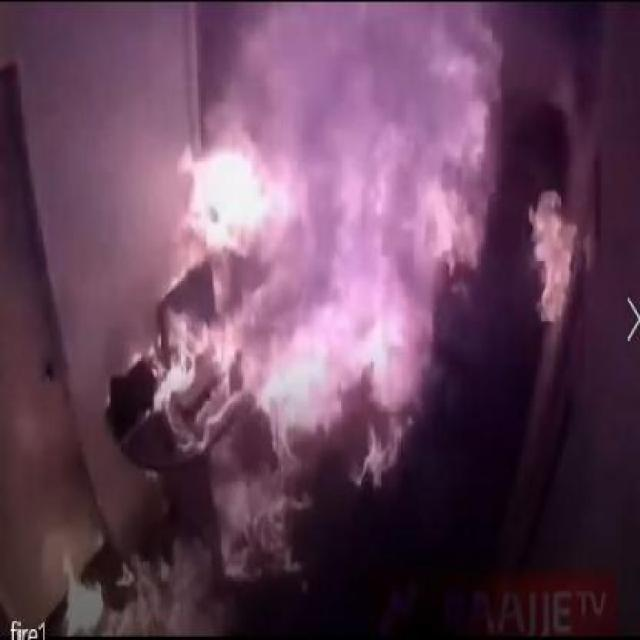Fire: (62, 22, 511, 634), (528, 182, 580, 330)
